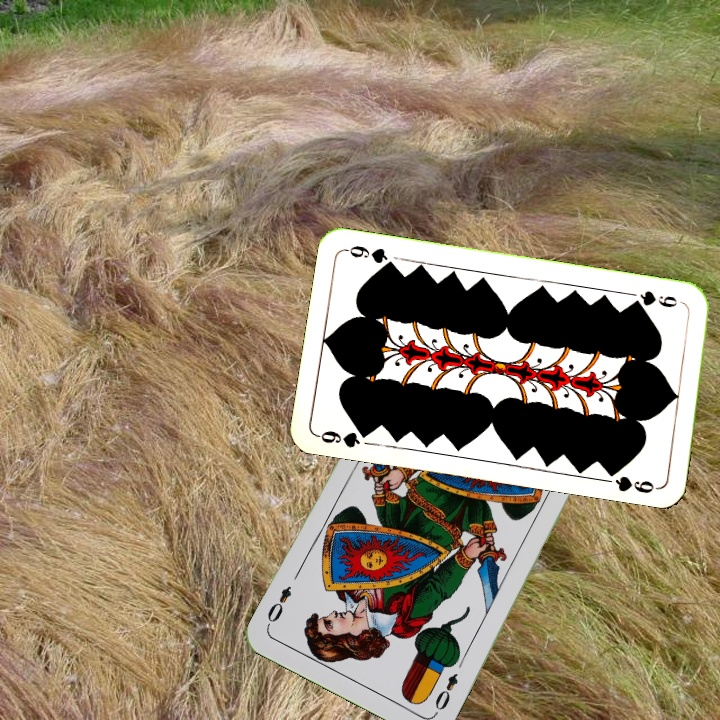EO: (430, 669, 461, 713)
G9: (314, 425, 374, 451), (628, 287, 680, 310)
